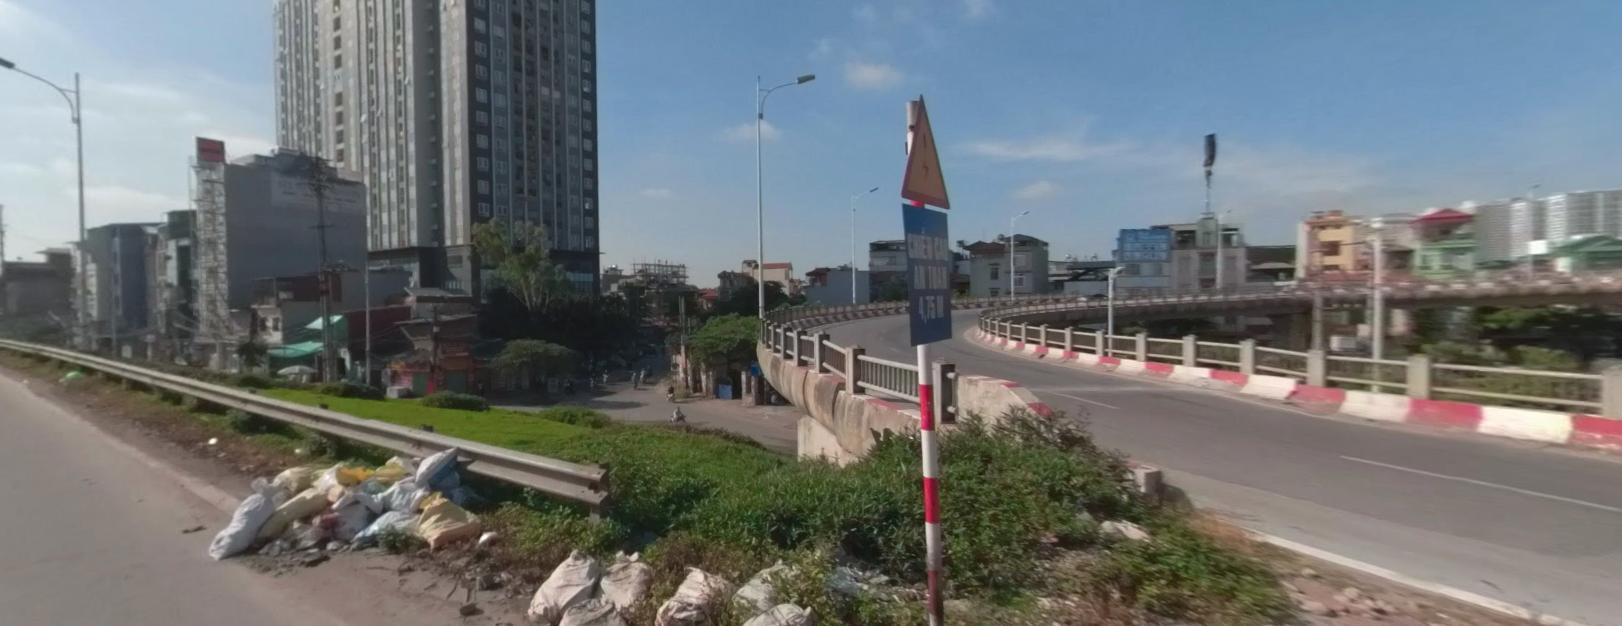Nguy hiem: (899, 91, 952, 207)
